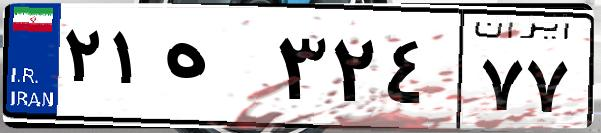1: (110, 28, 158, 98)
2: (330, 28, 385, 110), (57, 26, 110, 100)
3: (270, 28, 330, 110)
4: (385, 28, 445, 110)
7: (475, 38, 525, 113), (525, 38, 570, 115)
ه: (158, 20, 270, 120)
